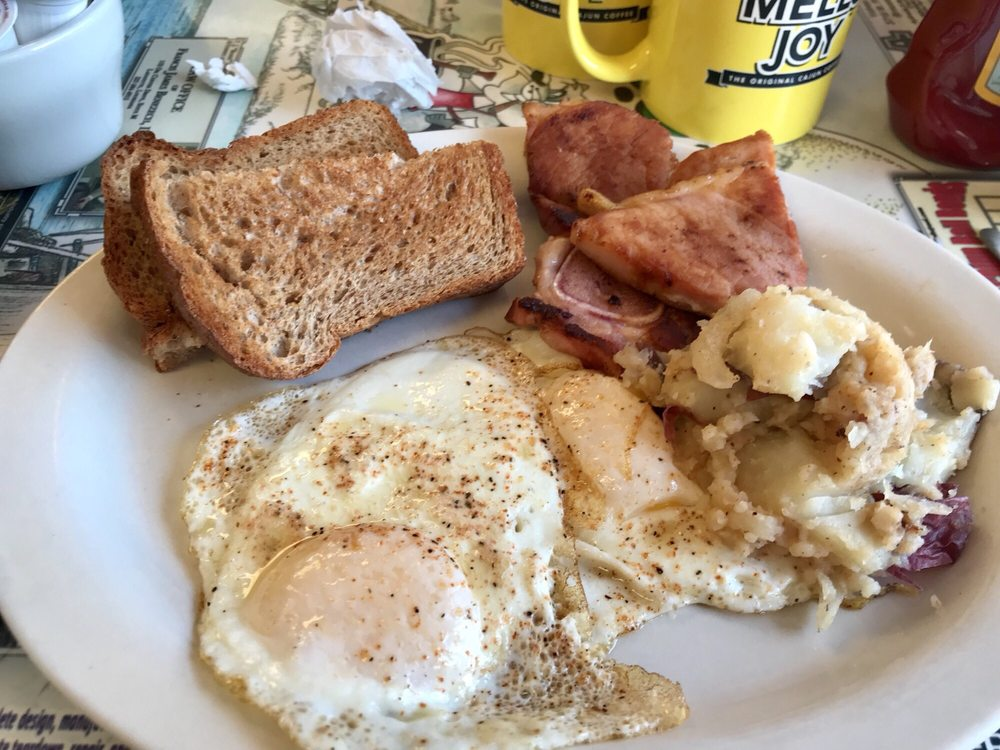fried_eggs: (268, 390, 528, 698)
